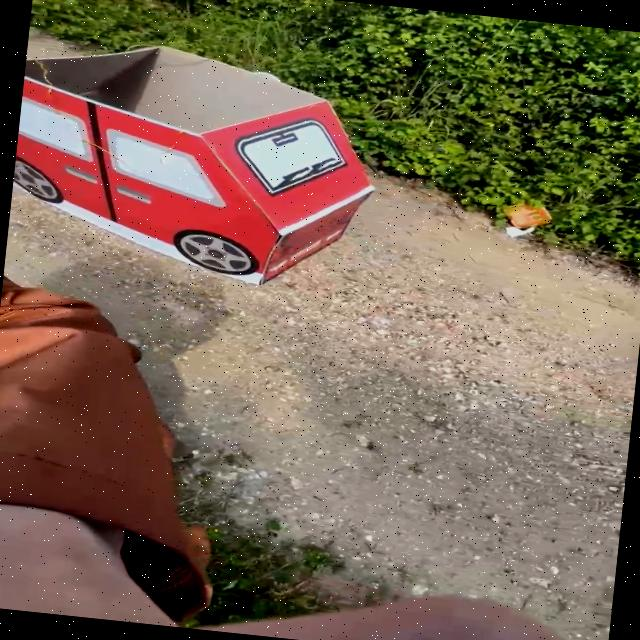red_car: (4, 12, 415, 310)
